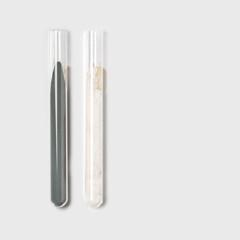Test tube: (49, 21, 107, 211)
